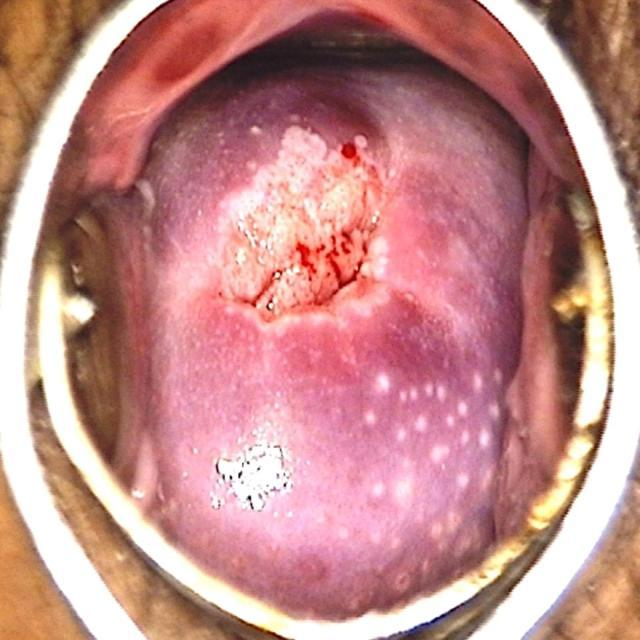cervical_lesion: (177, 98, 460, 558)
